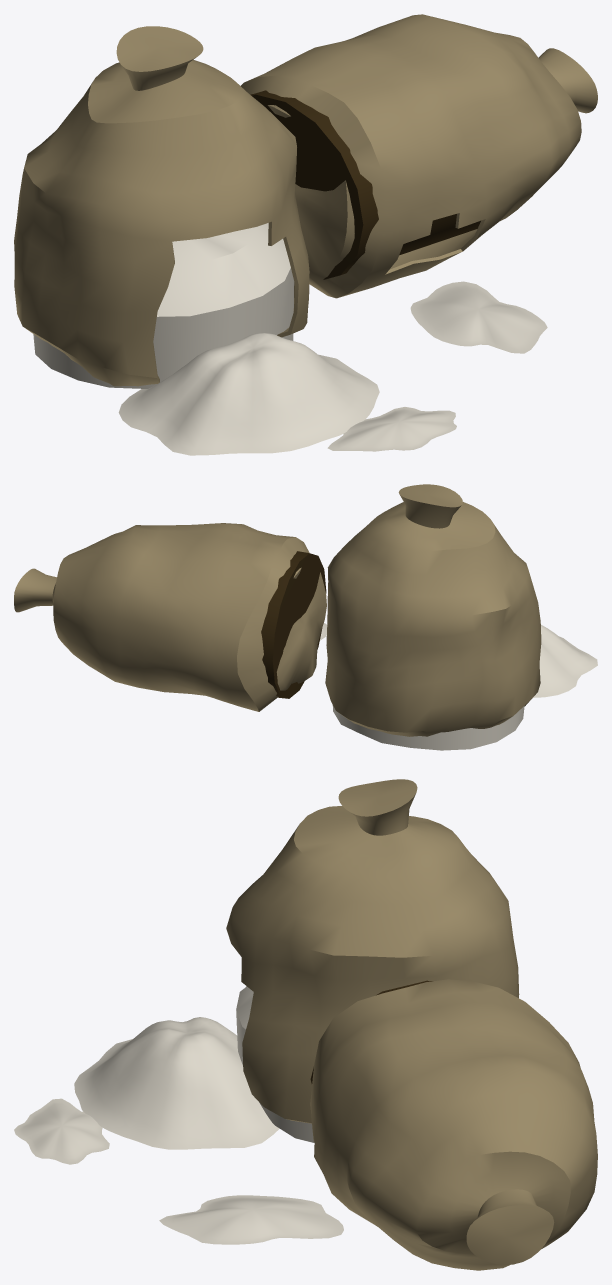
The model's file is mehlsack_kaputt.glb.
3 renders of one model, top to bottom at view 1: azimuth 30°, elevation 25°; view 2: azimuth 150°, elevation 25°; view 3: azimuth 270°, elevation 25°, orthographic. The views are drawn at different scales.
Visible parts, largest first — view 1: mehlsack_kaputt; view 2: mehlsack_kaputt; view 3: mehlsack_kaputt.
Part boxes in pixels (bbox=[...]): mehlsack_kaputt: bbox=[14, 14, 597, 455]; mehlsack_kaputt: bbox=[14, 484, 597, 750]; mehlsack_kaputt: bbox=[14, 779, 597, 1270].
Size of the model in its own units: 1.09 by 0.5203 by 0.8825.
